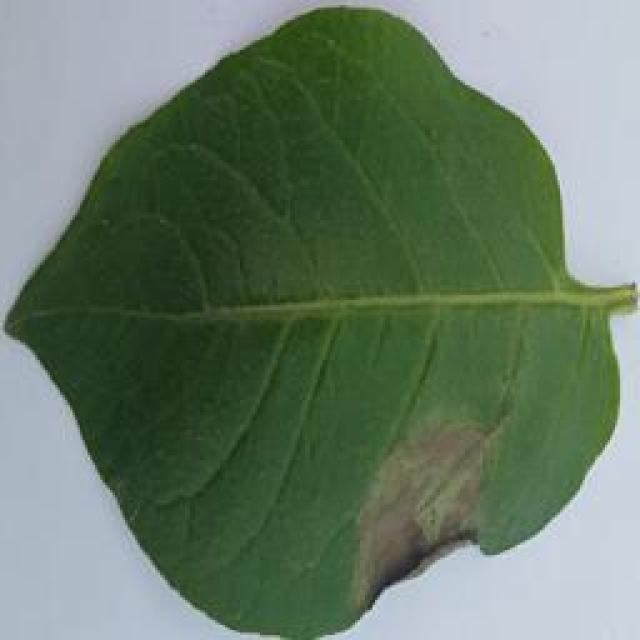Potato_Late_Blight: (2, 4, 626, 632)
